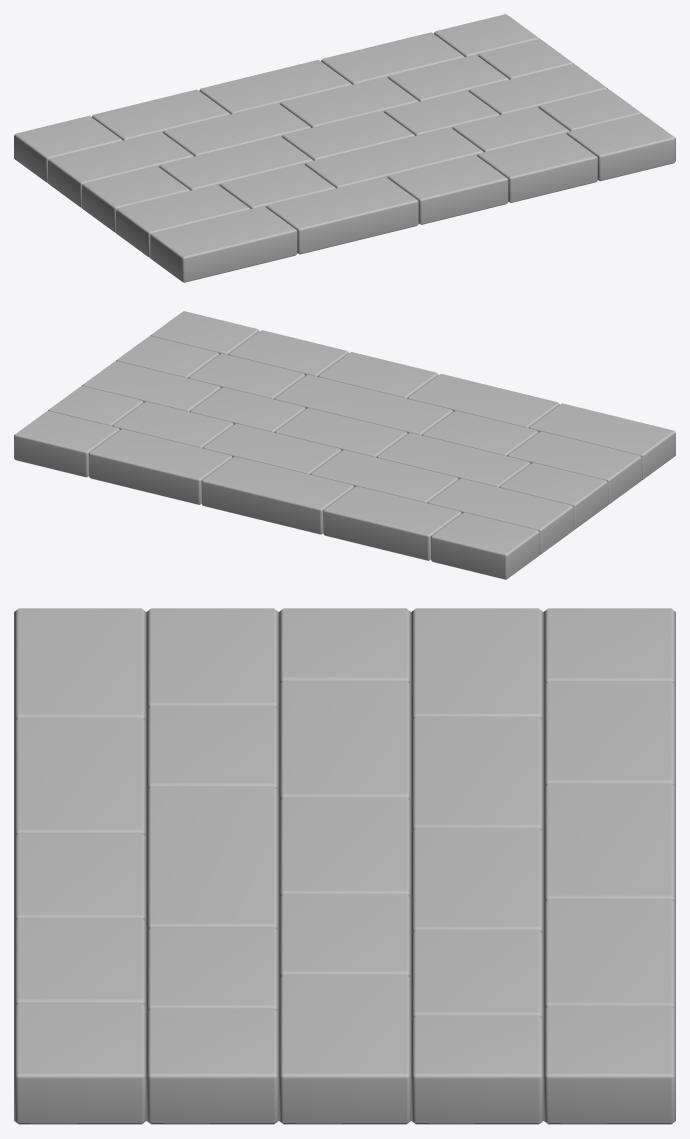
Rendered from City_14_Base_1.glb.
3 views of the same model, one above another, from view 1: azimuth 30°, elevation 25°; view 2: azimuth 150°, elevation 25°; view 3: azimuth 270°, elevation 25° (orthographic). The views are drawn at different scales.
Visible parts, largest first — view 1: City_14_Base_1; view 2: City_14_Base_1; view 3: City_14_Base_1.
Part boxes in pixels (x1,y1,x2,y2): City_14_Base_1: (14, 14, 675, 282); City_14_Base_1: (14, 311, 675, 579); City_14_Base_1: (14, 608, 675, 1124).
Size of the model in its own units: 12.2 by 0.6294 by 7.28.
Materials: 1 (1 with a texture image).
